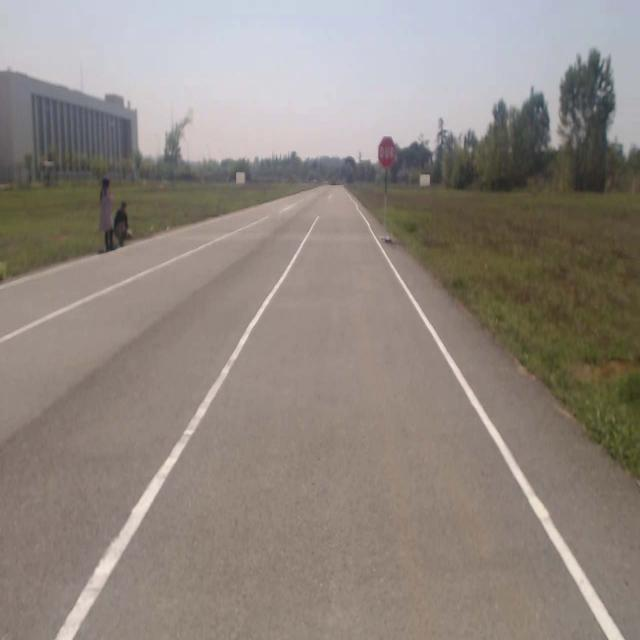dur: (378, 136, 395, 168)
